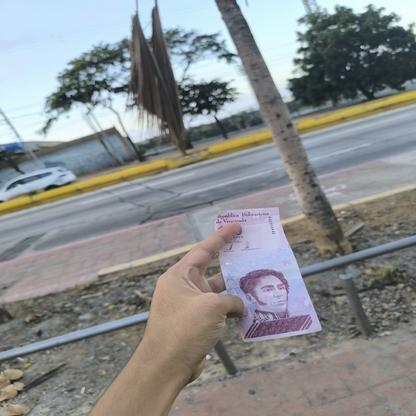one_hundred-front-vef: (214, 207, 323, 342)
